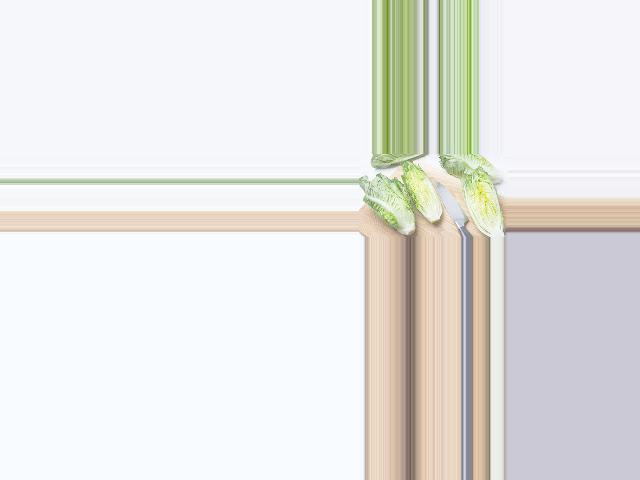lettuce: (440, 156, 501, 183)
